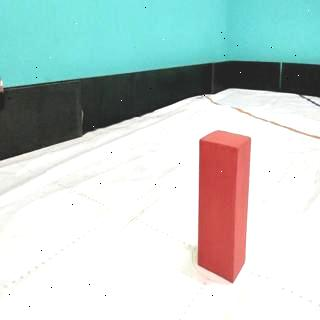redbox: (199, 129, 250, 285)
